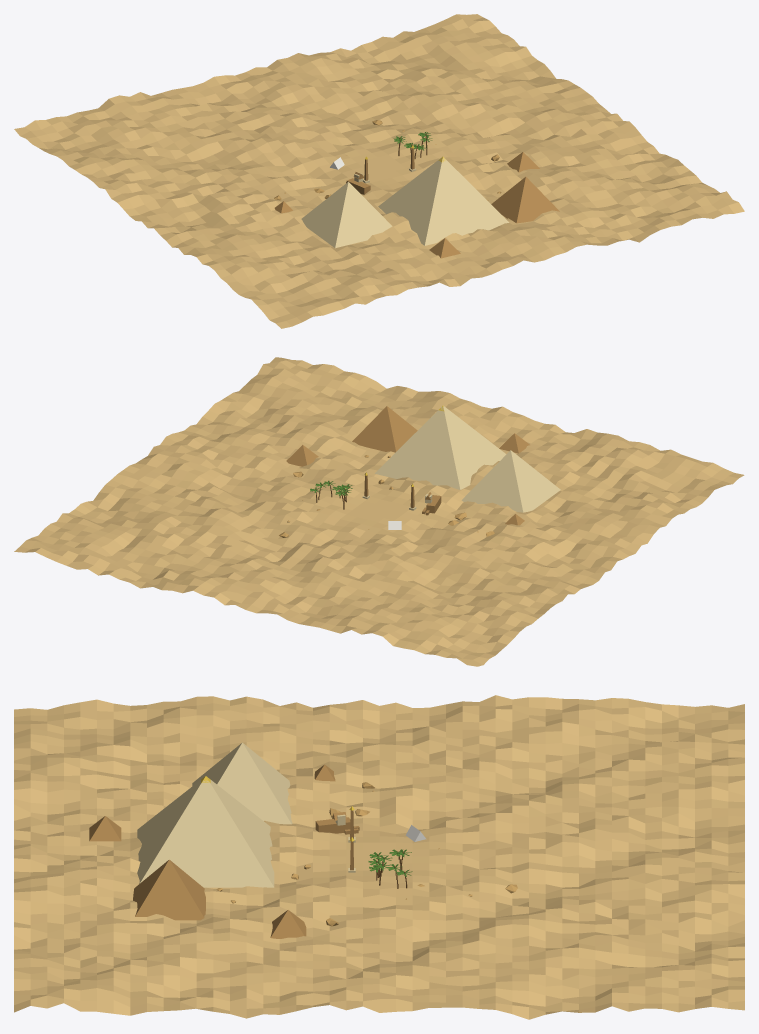
The model's file is Escenario_Giza.fbx.
3 renders of one model, top to bottom at view 1: azimuth 30°, elevation 25°; view 2: azimuth 150°, elevation 25°; view 3: azimuth 270°, elevation 25°, orthographic. The views are drawn at different scales.
Visible parts, largest first — view 1: Escenario_Giza_Arena, Escenario_Giza_Caliza, Escenario_Giza_Bloque; view 2: Escenario_Giza_Arena, Escenario_Giza_Caliza, Escenario_Giza_Bloque; view 3: Escenario_Giza_Arena, Escenario_Giza_Caliza, Escenario_Giza_Bloque, Escenario_Giza_ArenaOscura.
Part boxes in pixels (x1=…): Escenario_Giza_Arena: x1=14, y1=14, x2=744, y2=328; Escenario_Giza_Caliza: x1=301, y1=157, x2=509, y2=248; Escenario_Giza_Bloque: x1=274, y1=148, x2=559, y2=258; Escenario_Giza_Arena: x1=14, y1=357, x2=744, y2=666; Escenario_Giza_Caliza: x1=362, y1=406, x2=560, y2=512; Escenario_Giza_Bloque: x1=286, y1=406, x2=529, y2=525; Escenario_Giza_Arena: x1=14, y1=695, x2=744, y2=1019; Escenario_Giza_Caliza: x1=137, y1=742, x2=355, y2=887; Escenario_Giza_Bloque: x1=89, y1=764, x2=359, y2=938; Escenario_Giza_ArenaOscura: x1=216, y1=782, x2=517, y2=926.
Size of the model in its own units: 160 by 22 by 160.
